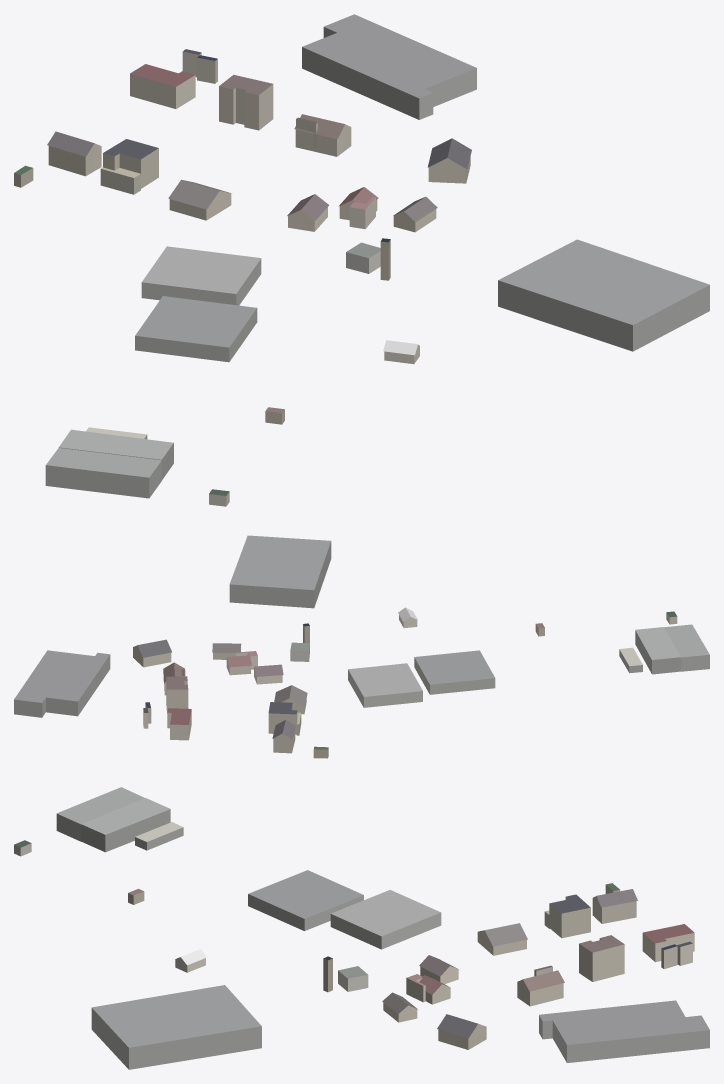
3 renders of one model, top to bottom at view 1: azimuth 30°, elevation 25°; view 2: azimuth 150°, elevation 25°; view 3: azimuth 270°, elevation 25°, orthographic. The views are drawn at different scales.
Visible parts, largest first — view 1: tuile; view 2: tuile; view 3: tuile.
Boxes of the visible parts, x1,y1,x2,y2 form: tuile: [14, 14, 709, 506]; tuile: [14, 535, 709, 758]; tuile: [14, 787, 709, 1069].
Bounding box in the file's own units: 248 × 24.87 × 257.
